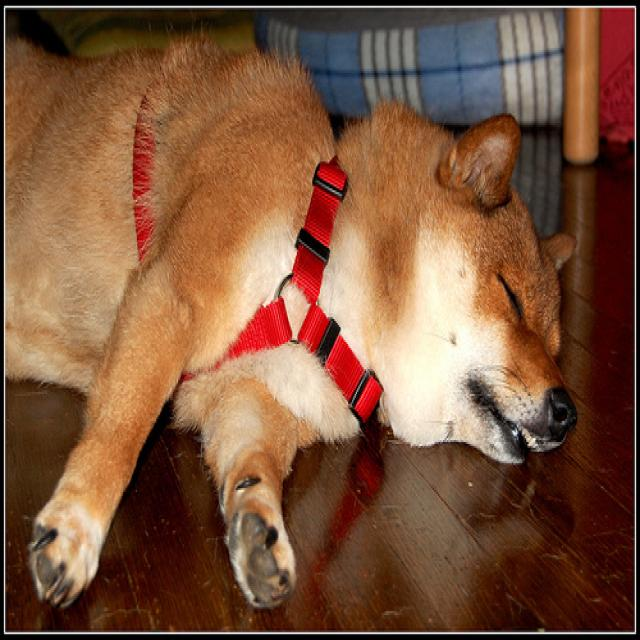dog: (382, 111, 574, 462)
